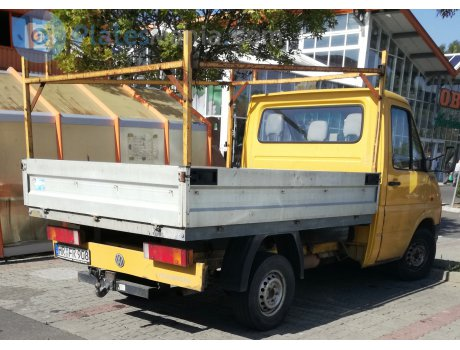License Plates: (57, 244, 88, 260)
